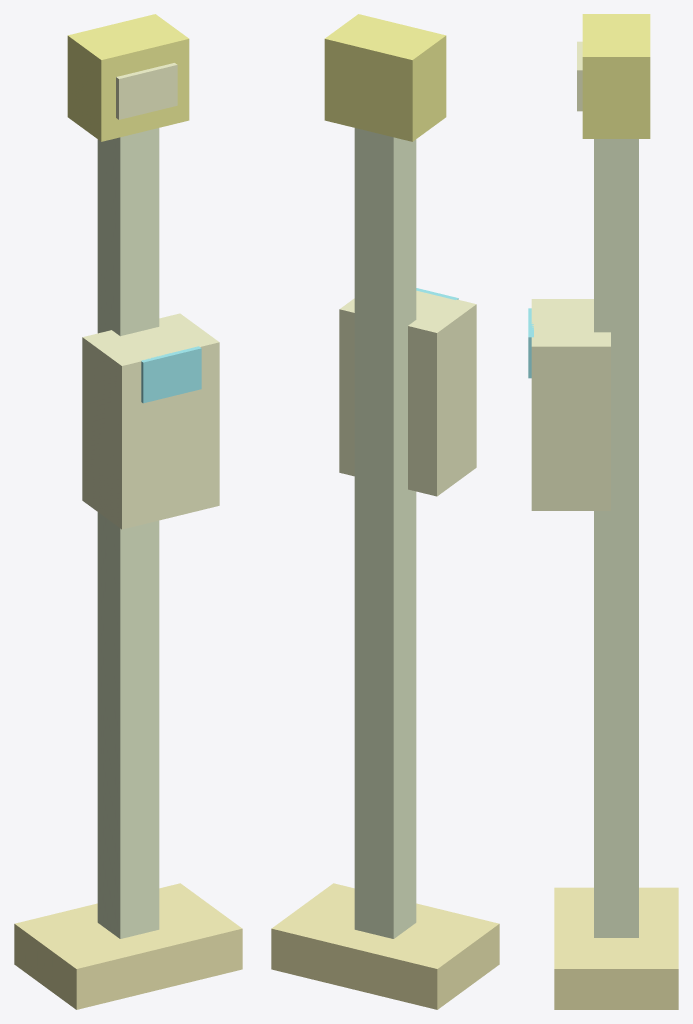
The model's file is furniture_rail_crossing_service_post.glb.
3 views of the same model, side by side, from view 1: azimuth 30°, elevation 25°; view 2: azimuth 150°, elevation 25°; view 3: azimuth 270°, elevation 25° (orthographic).
Visible parts, largest first — view 1: post, control_box, base, marker_head, marker_face, service_label; view 2: post, base, control_box, marker_head; view 3: post, control_box, base, marker_head, marker_face.
Boxes of the visible parts, box(x1,y1,x2,y2) form: post: box(97, 128, 159, 938); control_box: box(82, 313, 219, 529); base: box(14, 883, 242, 1009); marker_head: box(67, 14, 189, 141); marker_face: box(116, 63, 177, 119); service_label: box(140, 346, 201, 403); post: box(354, 128, 416, 938); base: box(271, 883, 499, 1009); control_box: box(339, 290, 476, 496); marker_head: box(324, 14, 446, 141); post: box(594, 139, 638, 937); control_box: box(531, 299, 610, 510); base: box(554, 887, 678, 1009); marker_head: box(582, 14, 650, 138); marker_face: box(577, 41, 582, 111).
Size of the model in its own units: 0.34 by 1.82 by 0.266.
